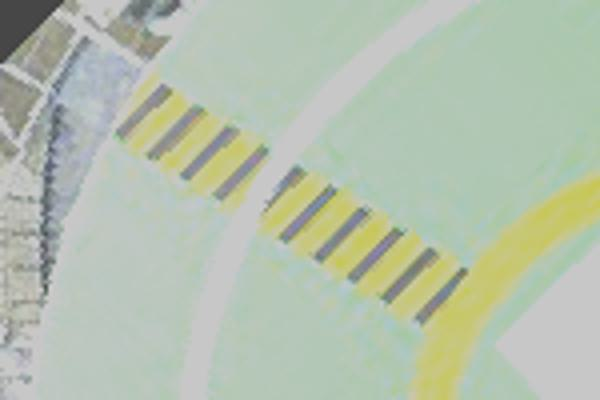Apron: (413, 170, 599, 400)
